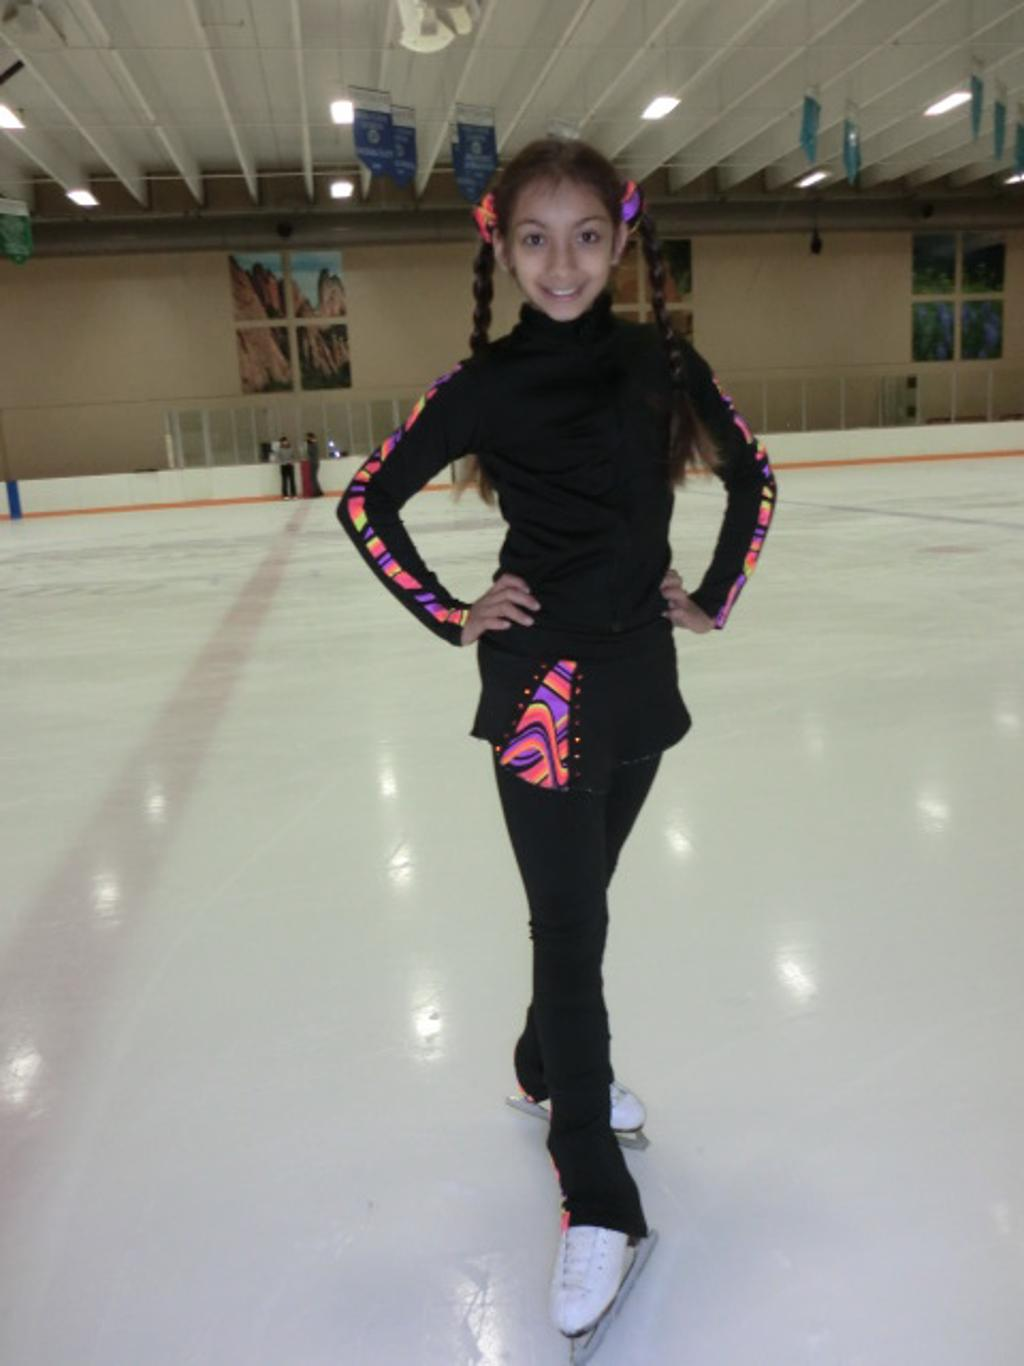face: (501, 176, 616, 323)
